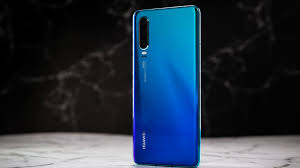huawei: (127, 3, 205, 168)
